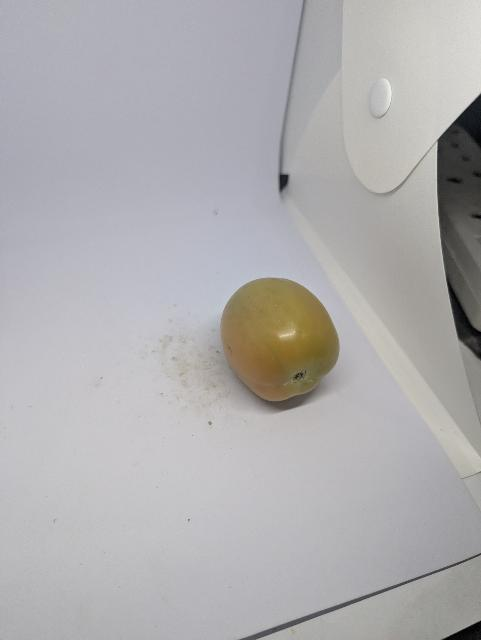breaker: (221, 278, 340, 401)
